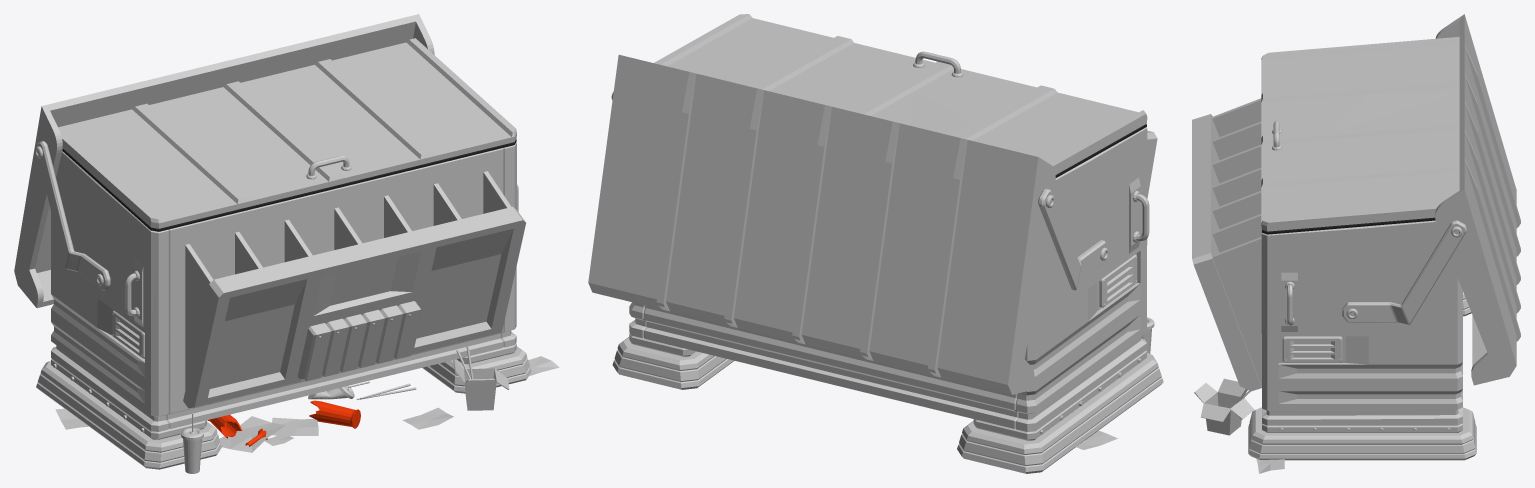
The model's file is TrashRunner_2.fbx.
3 views of the same model, side by side, from view 1: azimuth 30°, elevation 25°; view 2: azimuth 150°, elevation 25°; view 3: azimuth 270°, elevation 25° (orthographic). The views are drawn at different scales.
Parts seen in each view (by area): view 1: G-KB3D_CPP1918.002; view 2: G-KB3D_CPP1918.002; view 3: G-KB3D_CPP1918.002.
Boxes of the visible parts, left/top/right/bottom form: G-KB3D_CPP1918.002: left=14, top=14, right=559, bottom=473; G-KB3D_CPP1918.002: left=588, top=14, right=1163, bottom=473; G-KB3D_CPP1918.002: left=1192, top=14, right=1520, bottom=473.
Bounding box in the file's own units: 571 × 359 × 394.
